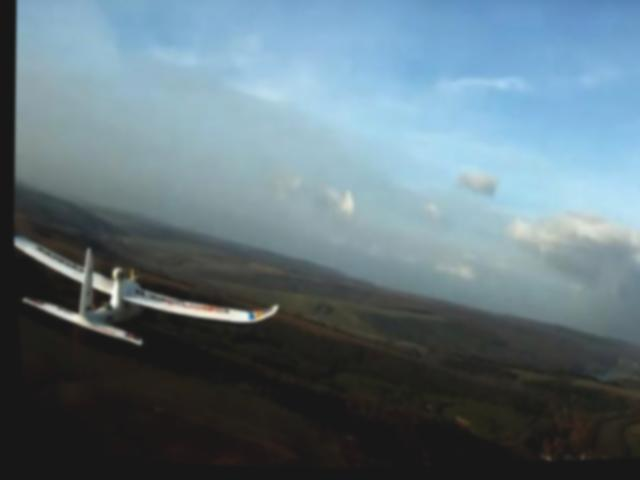iha: (10, 202, 290, 358)
